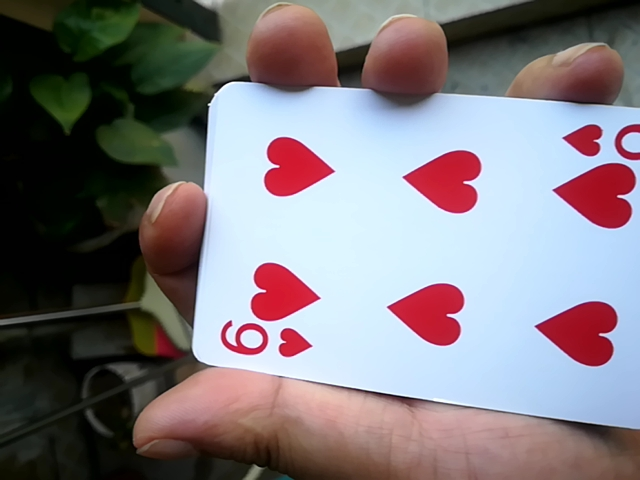hx 6: (172, 83, 639, 432)
